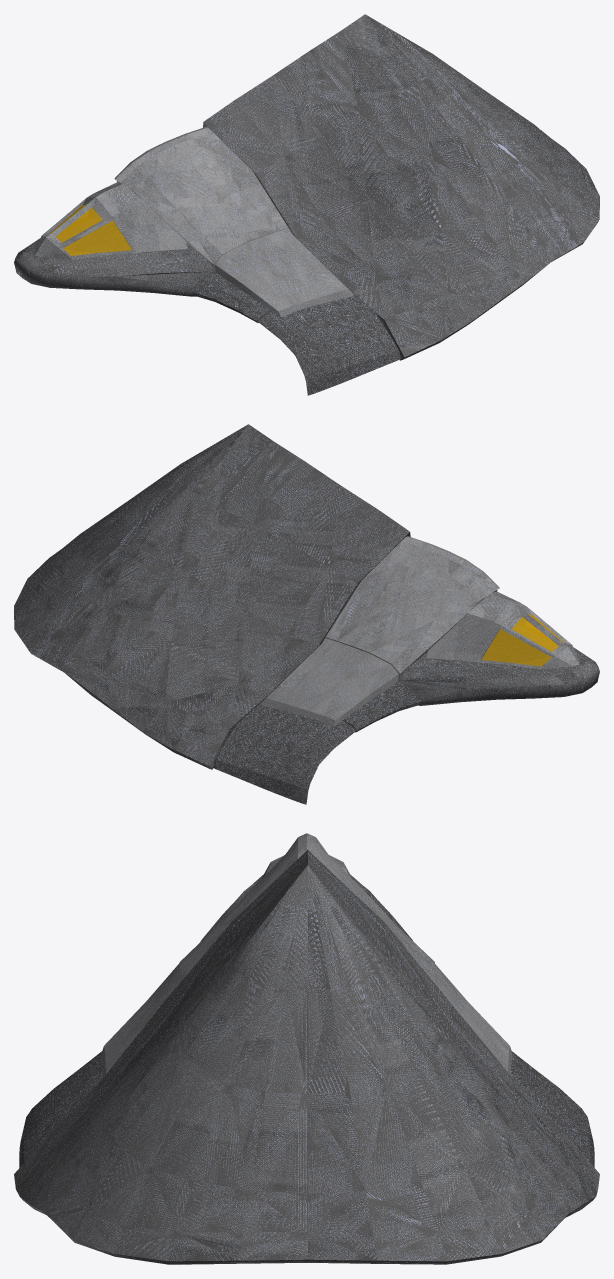
File: Teltak.dae
3 views of the same model, one above another, from view 1: azimuth 30°, elevation 25°; view 2: azimuth 150°, elevation 25°; view 3: azimuth 270°, elevation 25° (orthographic). The views are drawn at different scales.
Parts seen in each view (by area): view 1: group_0 (×7); view 2: group_0 (×7); view 3: group_0 (×6).
Boxes of the visible parts, x1,y1,x2,y2 form: group_0 (×7): (14,14,599,395); group_0 (×7): (14,424,599,804); group_0 (×6): (14,833,599,1264).
Bounding box in the file's own units: 713 × 471 × 336.
